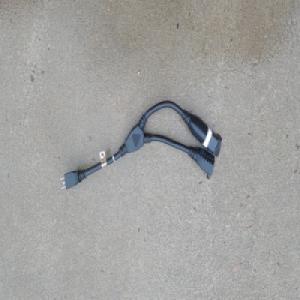Wire: (58, 99, 223, 192)
